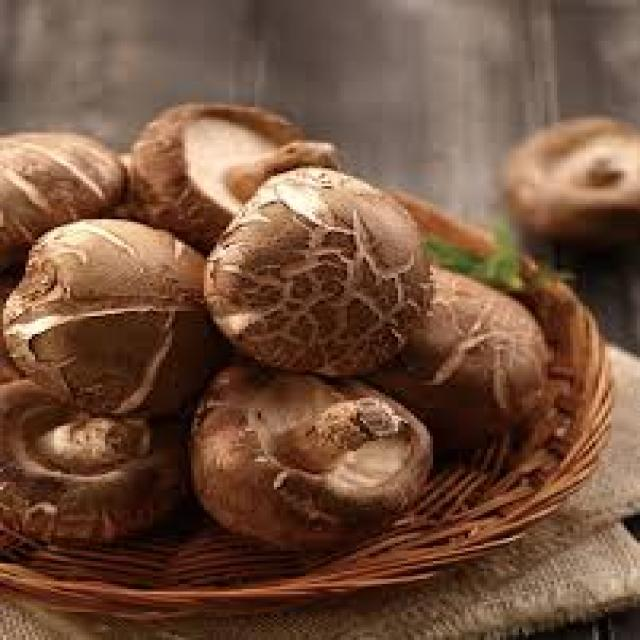Mushroom: (204, 168, 433, 376), (194, 367, 433, 553)
